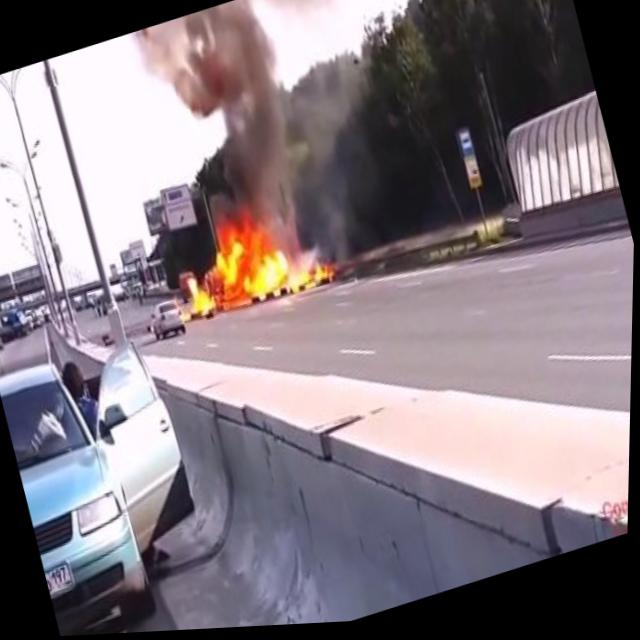fire: (167, 189, 344, 334)
